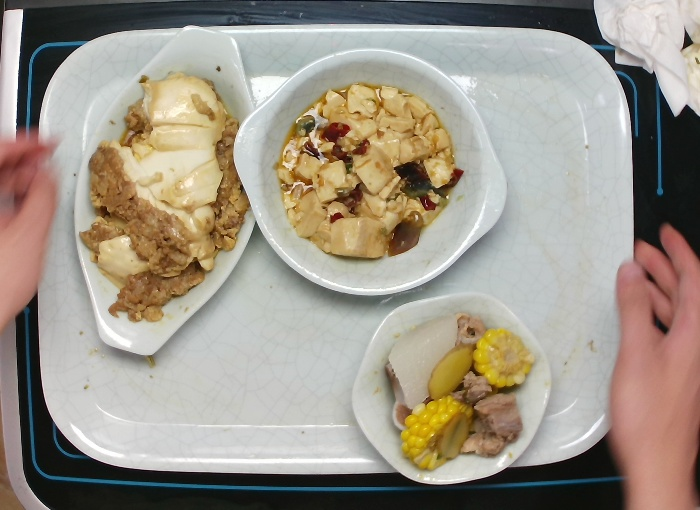JYsf-Shuang_Er_Wan: (233, 46, 508, 299)
JYsf-Yu_Pan: (66, 23, 265, 357)
WCQzf-Hua_Duo_Wan: (349, 292, 551, 488)
